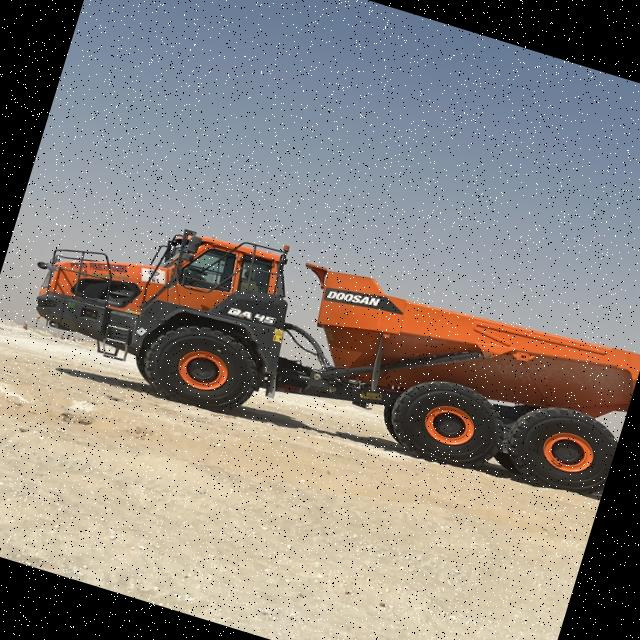Dump Truck: (4, 170, 640, 536)
